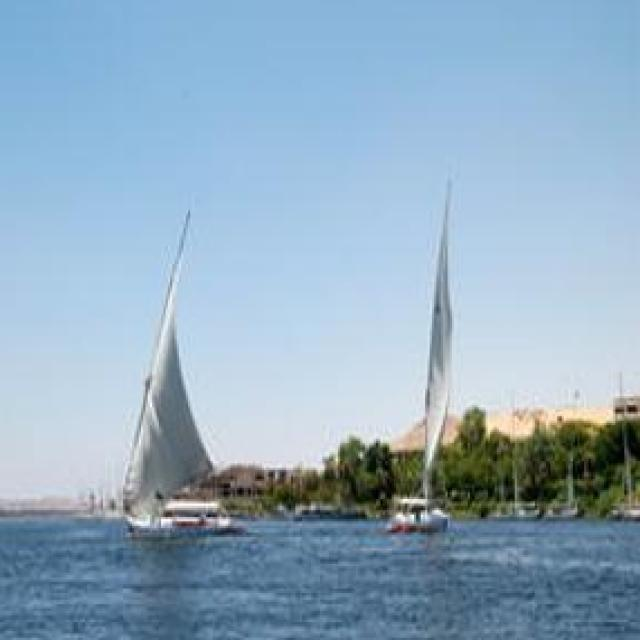sailboat: (114, 211, 236, 534), (372, 170, 472, 534)
